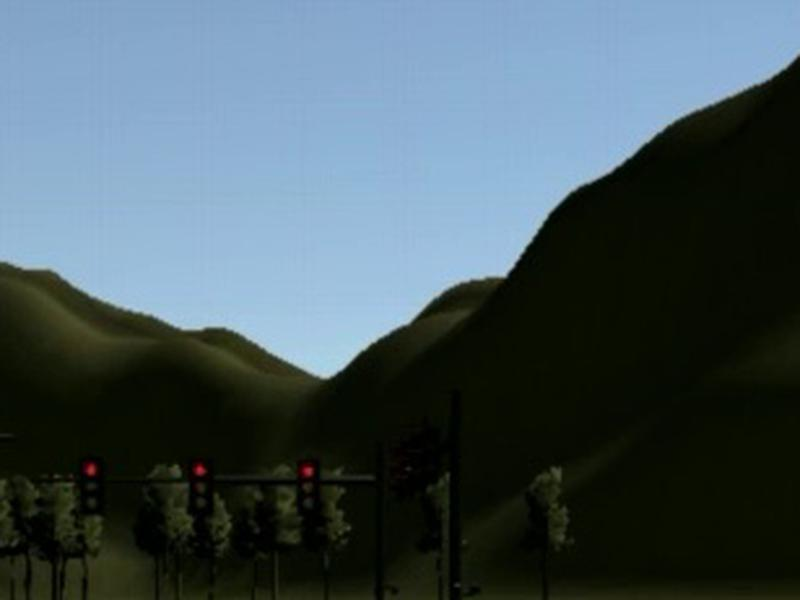Red: (188, 458, 213, 515), (79, 458, 103, 515), (295, 460, 319, 514)
